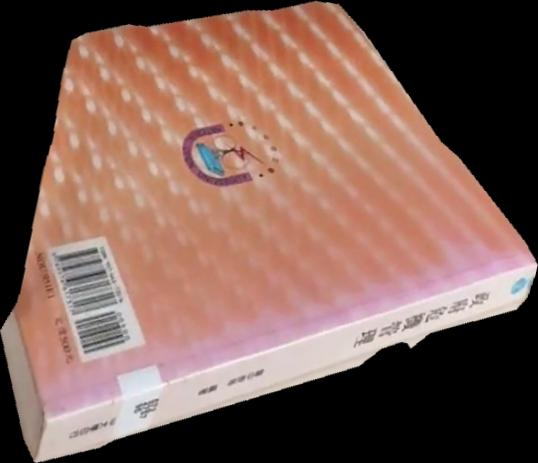flat: (1, 1, 538, 463)
